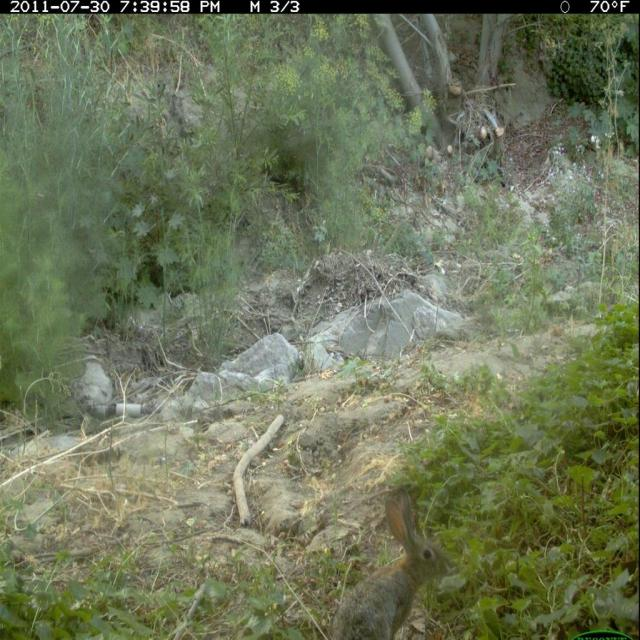rabbit: (330, 482, 454, 634)
